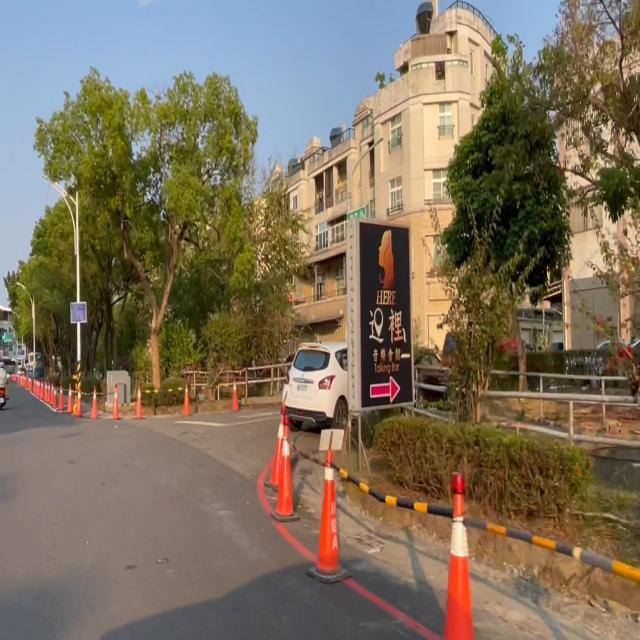car: (282, 342, 350, 432)
traffic cone: (420, 475, 495, 640), (306, 448, 352, 586), (270, 412, 301, 523), (131, 383, 146, 420), (180, 384, 193, 417), (111, 385, 122, 421), (231, 380, 241, 412), (90, 388, 100, 420)
